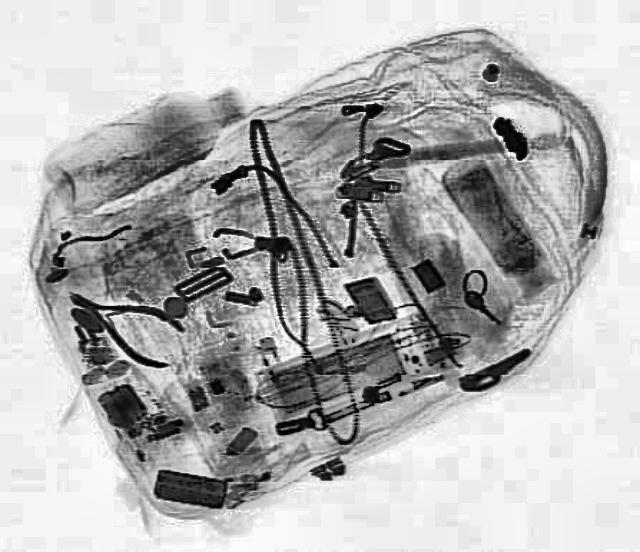Pliers: (51, 270, 199, 374)
